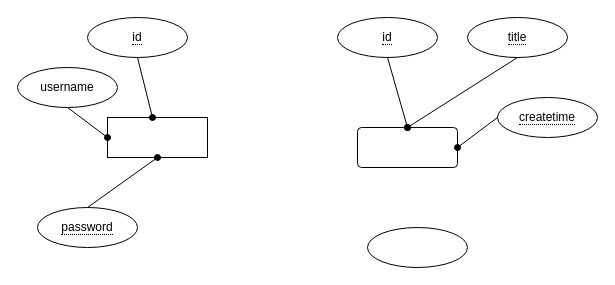
This 615x285 diagram has some shape labels left out. The shapes that lost their labels are listed below. From the top down, each one's centre as x and y in pixels, then its label:
point 157,137: user
point 407,147: article
point 417,247: content
